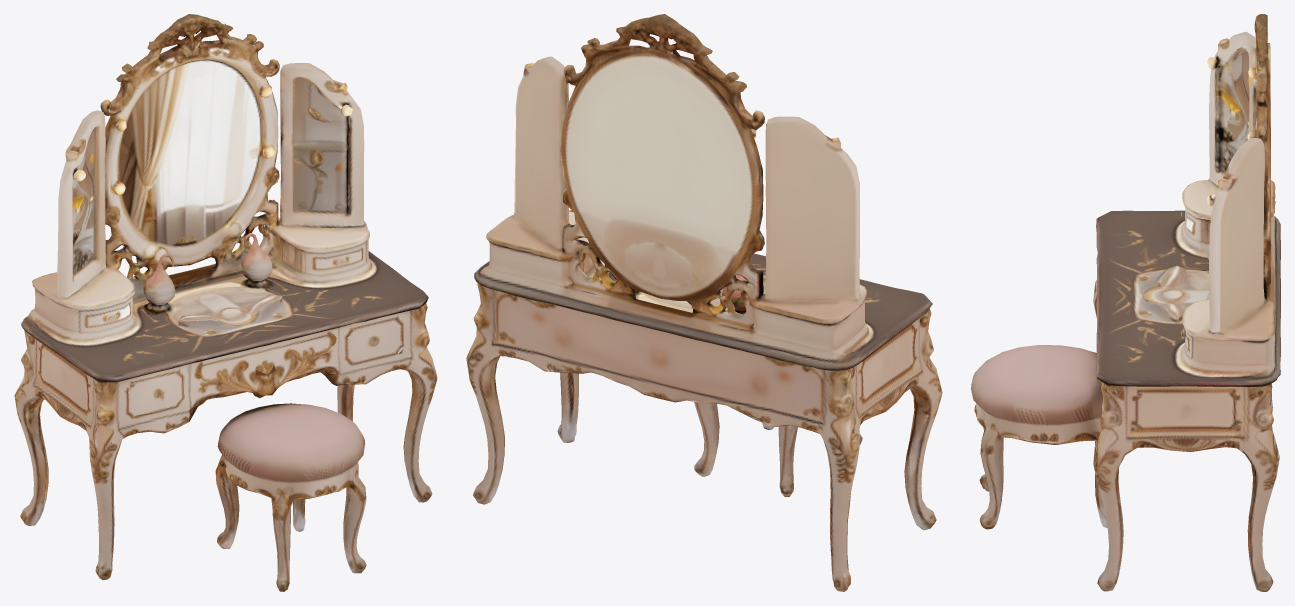
The model's file is base_basic_shaded.fbx.
3 views of the same model, side by side, from view 1: azimuth 30°, elevation 25°; view 2: azimuth 150°, elevation 25°; view 3: azimuth 270°, elevation 25° (orthographic). The views are drawn at different scales.
Visible parts, largest first — view 1: model; view 2: model; view 3: model.
Part boxes in pixels (<box>): model: <box>14,14,437,591</box>; model: <box>466,14,942,591</box>; model: <box>971,14,1280,591</box>.
Bounding box in the file's own units: 136 × 177 × 101.
